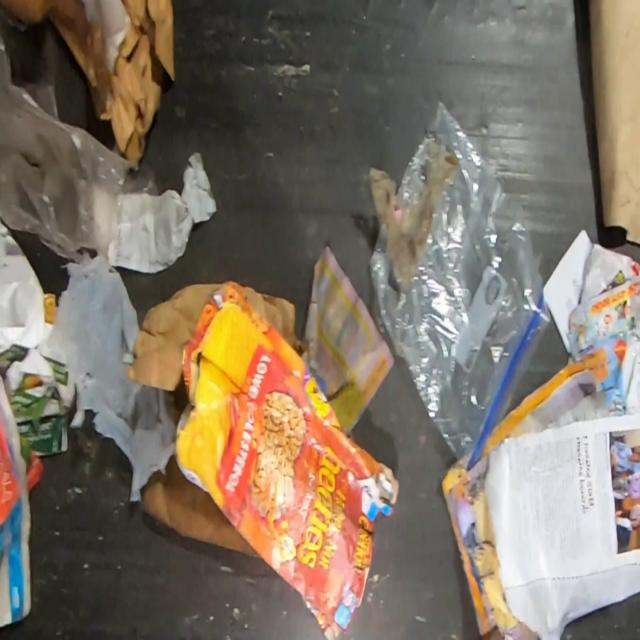cardboard: (173, 280, 401, 640), (0, 0, 177, 174), (586, 0, 640, 247), (141, 453, 261, 560), (124, 282, 216, 394), (238, 282, 300, 355)
soft_plastic: (368, 97, 553, 472), (0, 28, 160, 266), (34, 255, 180, 506)
